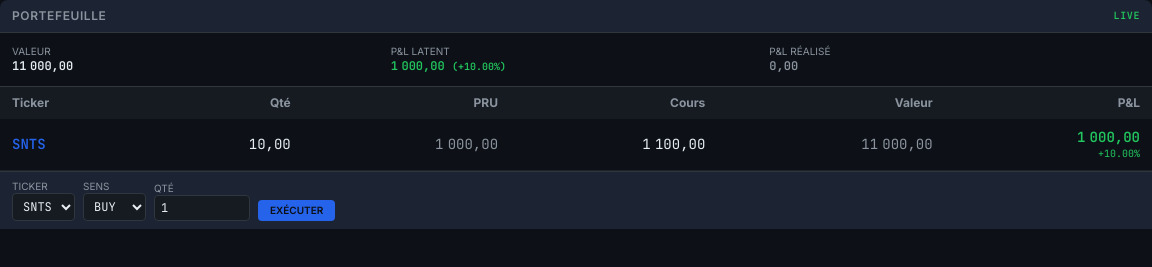
it: PortfolioWidget › affiche le message d'erreur renvoyé par submitTrade
Click the button "Exécuter": click(297, 210) [258, 200, 335, 221]
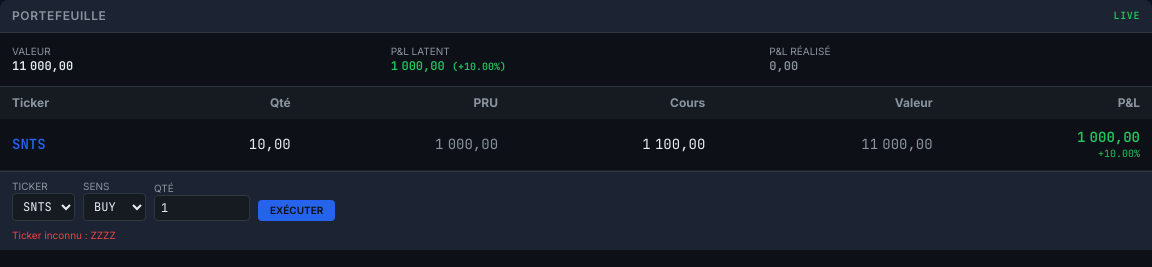
expect the text "Ticker inconnu : ZZZZ" is shown: met, box [12, 229, 116, 241]
